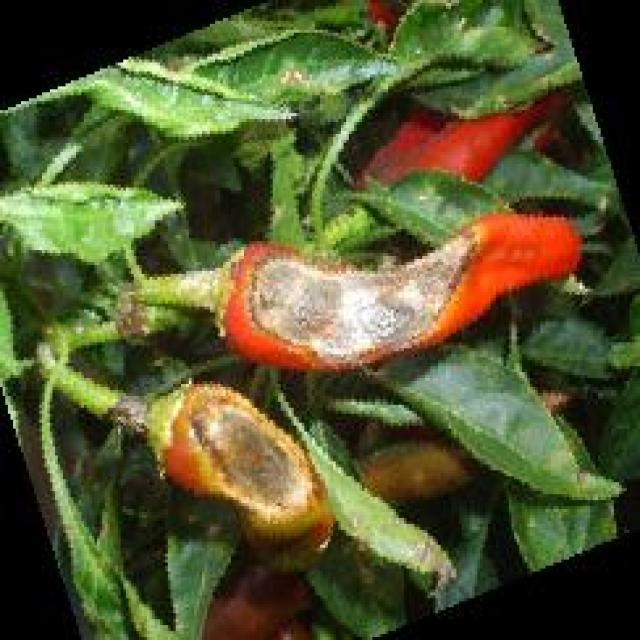Moko: (215, 207, 555, 387), (172, 370, 325, 580)
